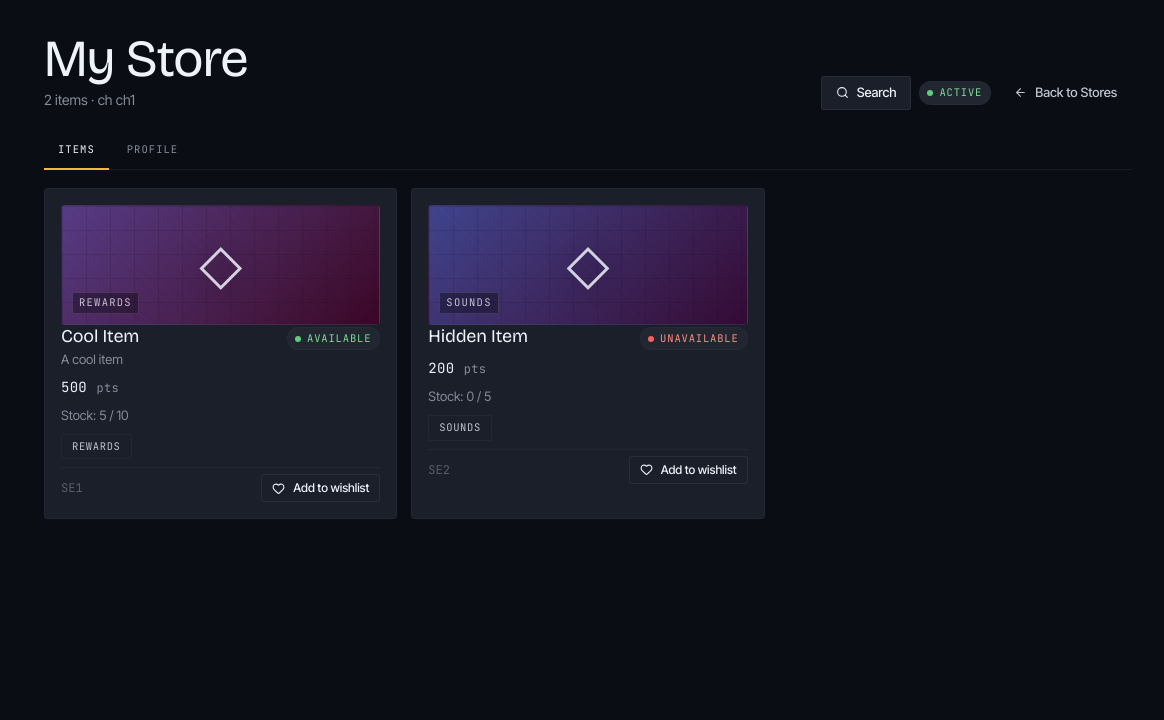
it: StoreDetailPage tabs › tab clicks update the location hash
Click the tab "Profile": x=153, y=151 [113,132,192,170]
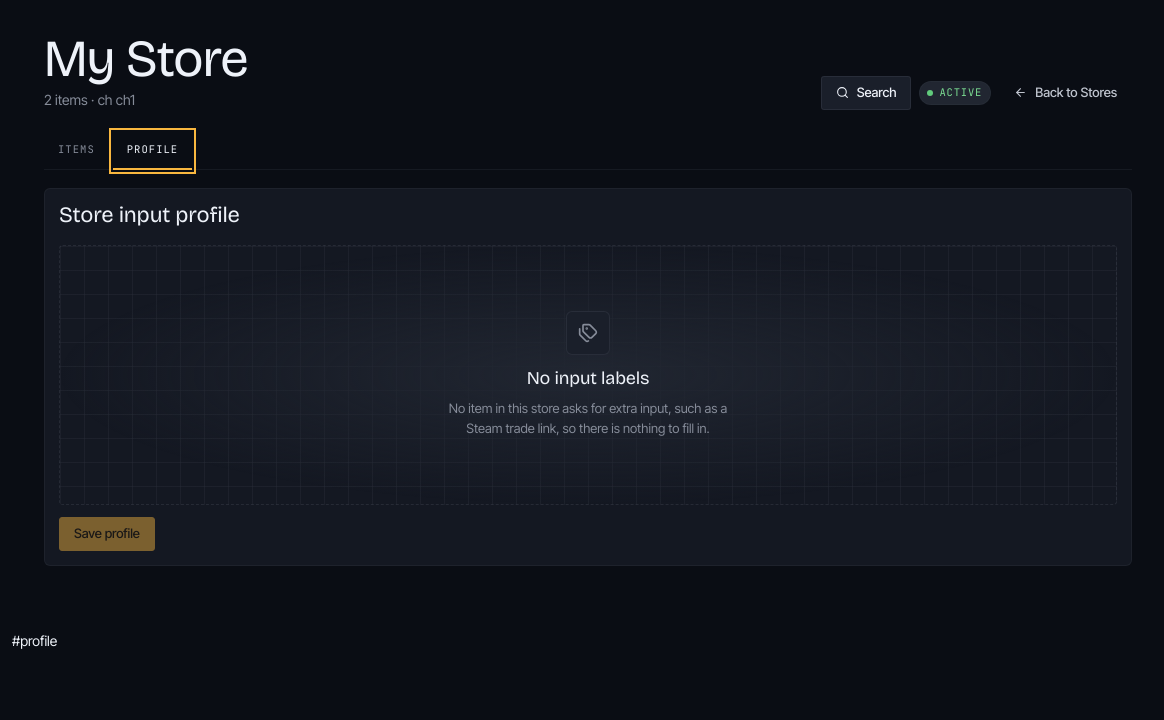
Result: the text with test id "location-hash" reads "#profile" at [12,632,57,649]
Result: the element with test id "store-profile-editor" is shown at [44,188,1132,566]
Click the tab "Items": x=76, y=151 [44,132,109,170]
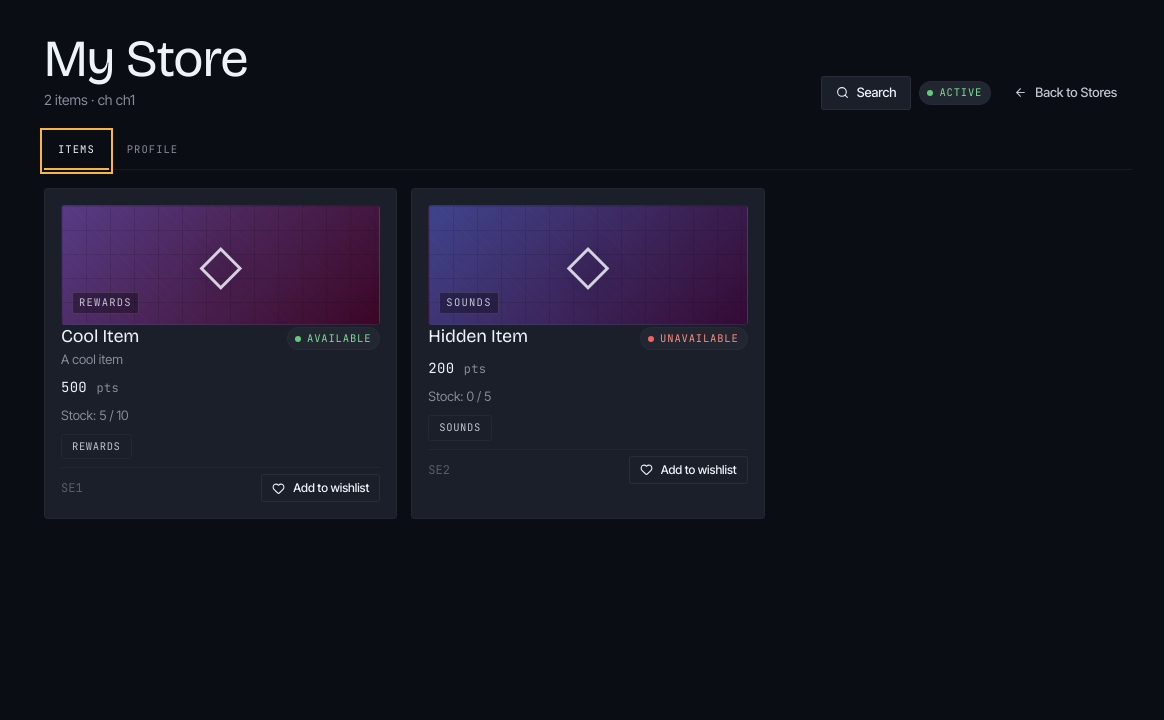
Result: the text "Cool Item" is shown at [61,327,139,346]
